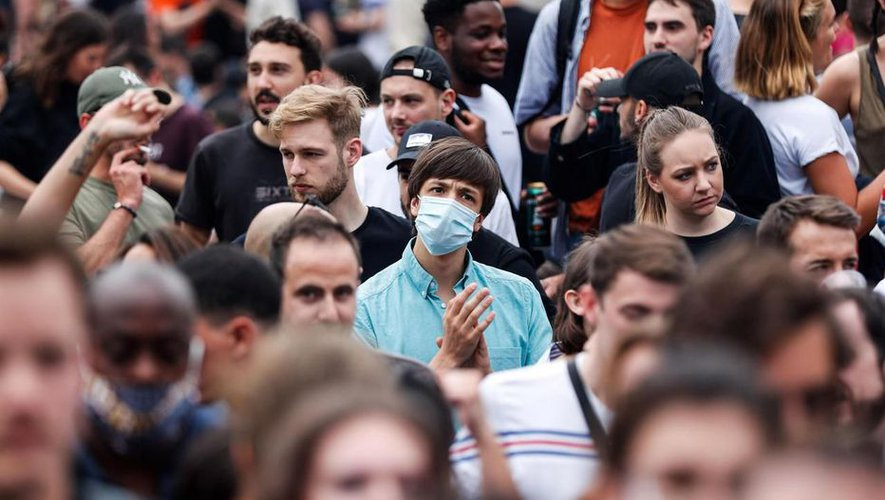with_mask: (411, 173, 480, 257)
without_mask: (650, 135, 727, 209), (284, 135, 341, 208), (240, 43, 290, 123), (462, 10, 513, 80), (377, 66, 419, 147)
